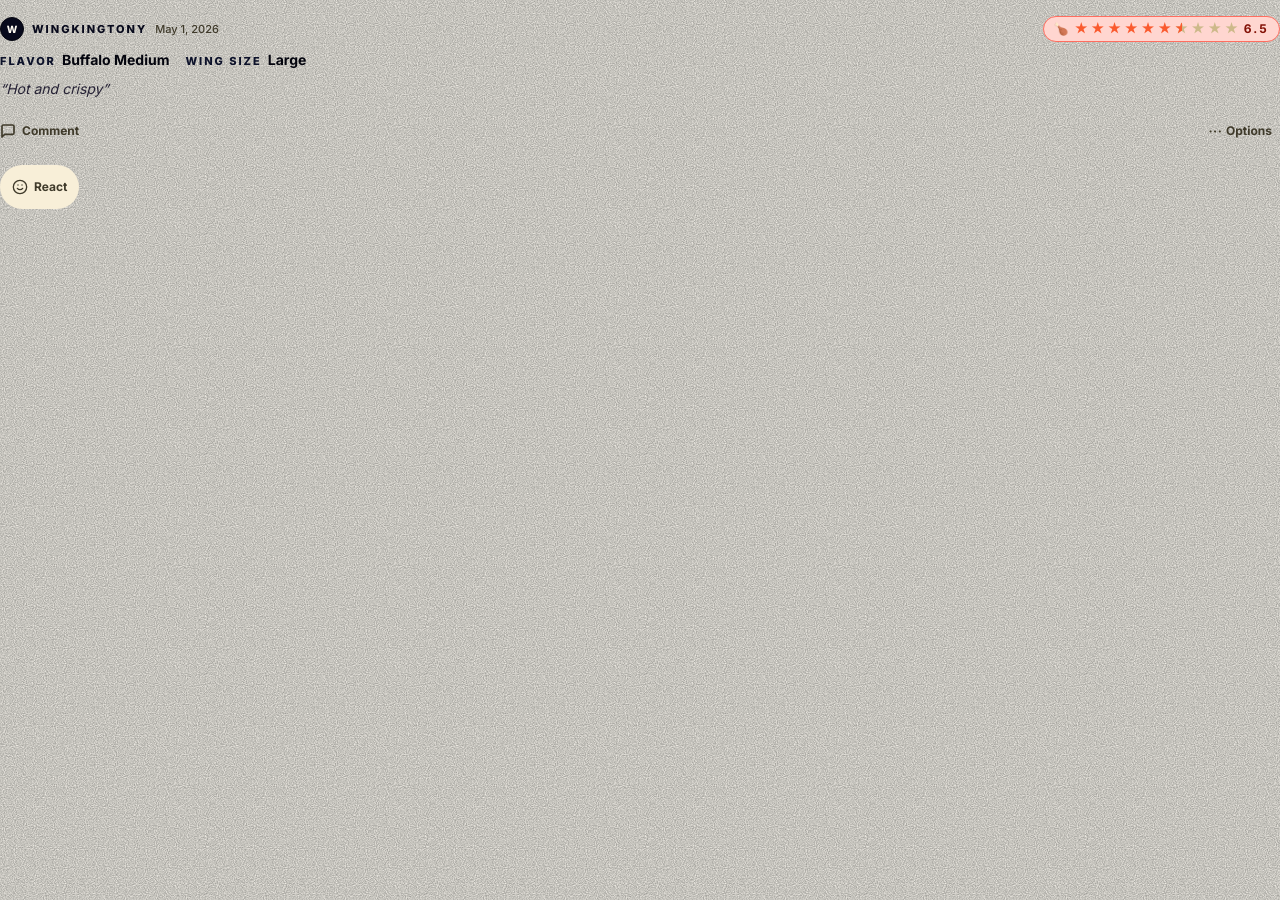
ReviewCard undo-delete › flushes the pending delete exactly once when unmounted mid-countdown
Click the button with aria-label "Review options": x=1240, y=131 [1200, 109, 1279, 153]
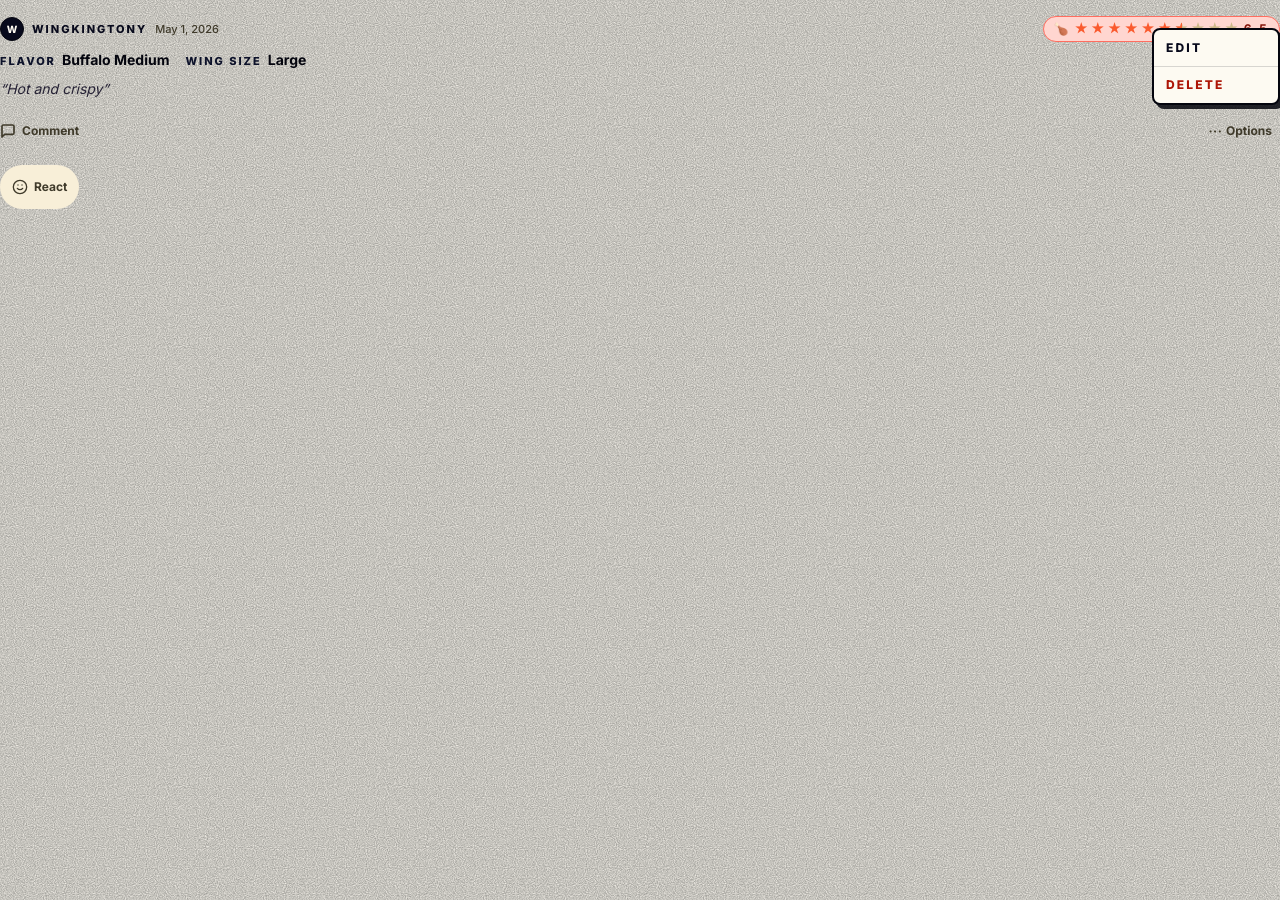
Click the menu item "Delete": x=1216, y=84 [1154, 66, 1278, 103]
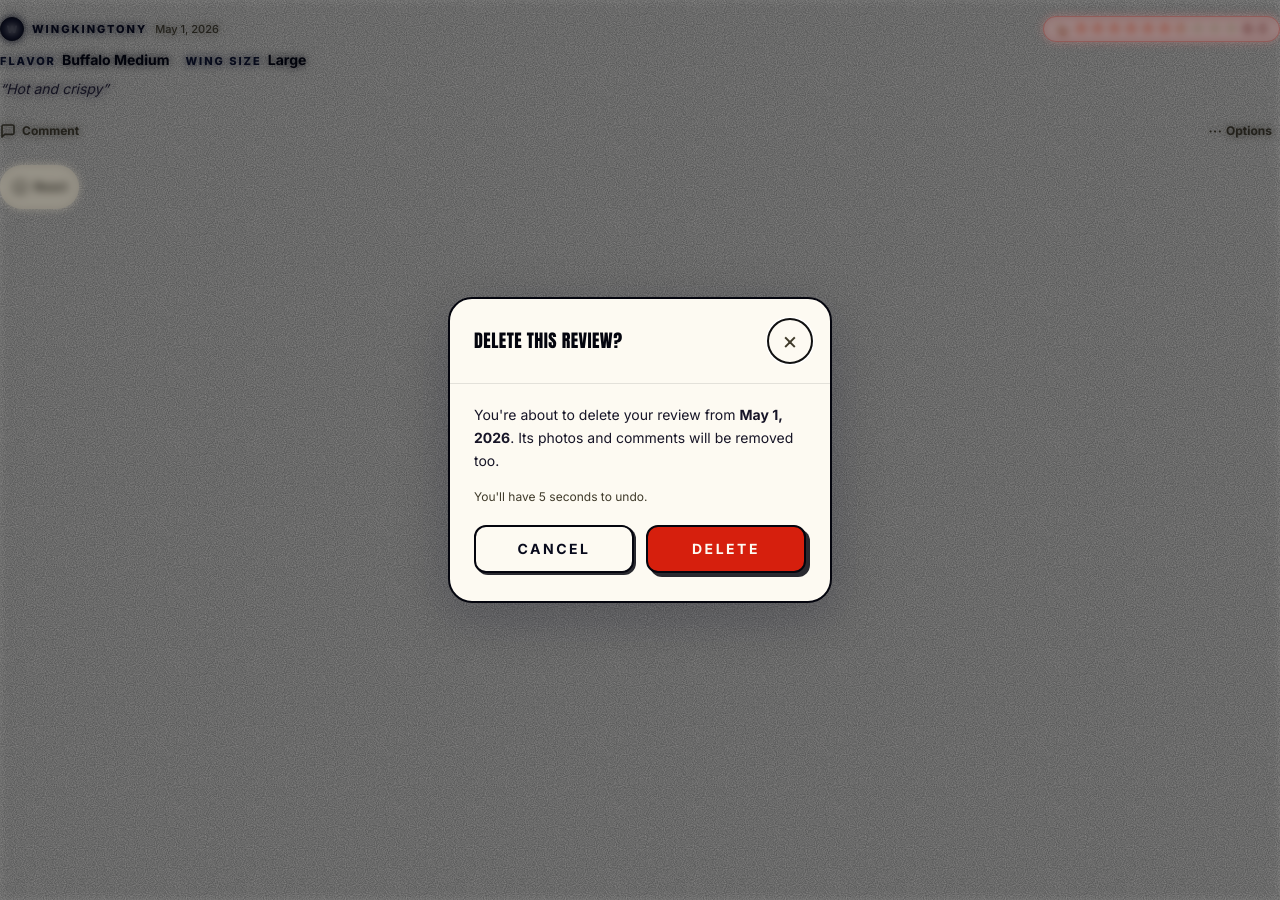
Click the button "Delete": x=726, y=549 [646, 525, 806, 573]
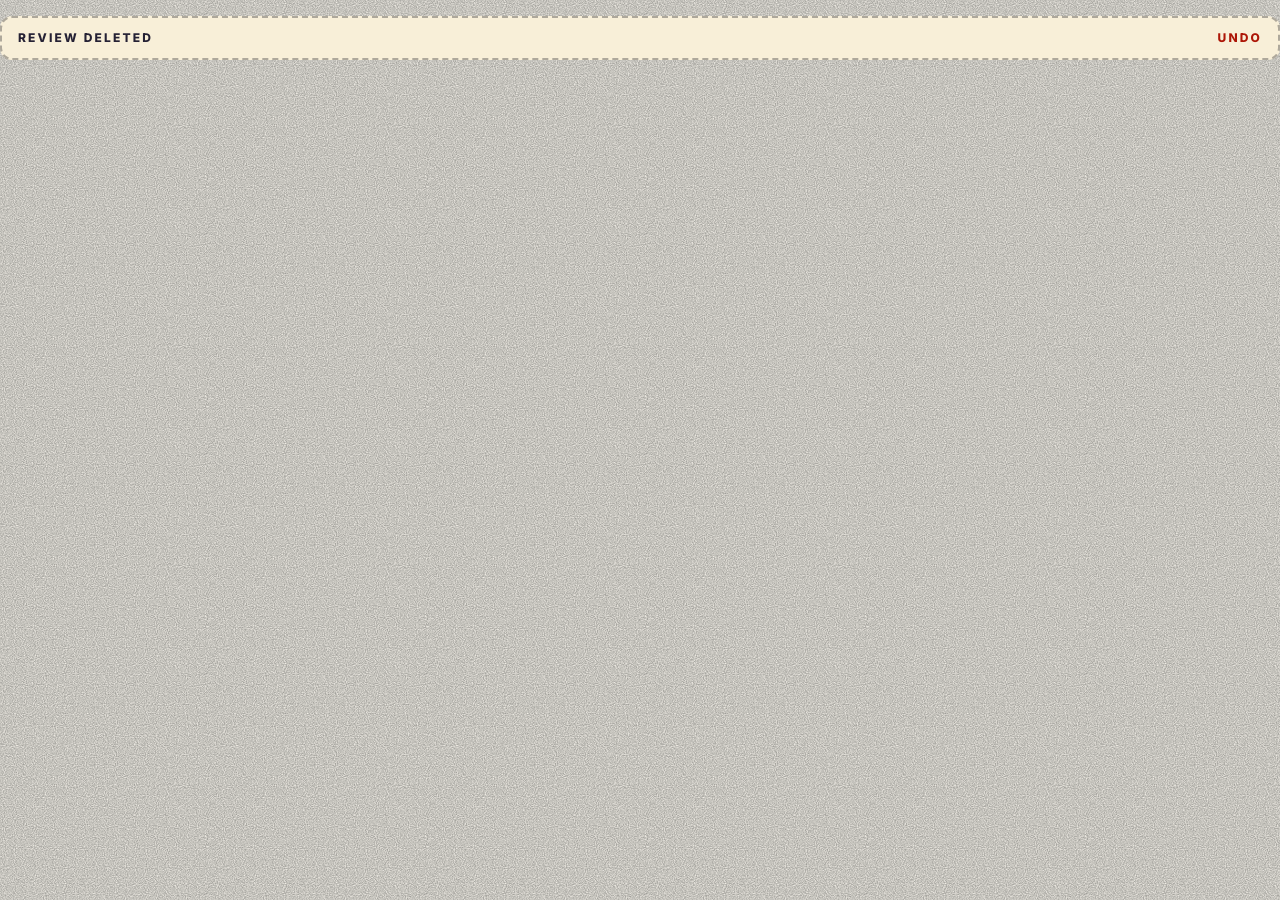
expect the text "Review deleted" is shown: met, box [18, 30, 153, 46]
